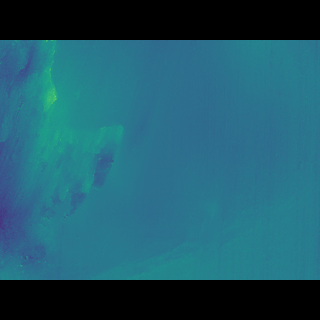Loch: (0, 70, 130, 247)
